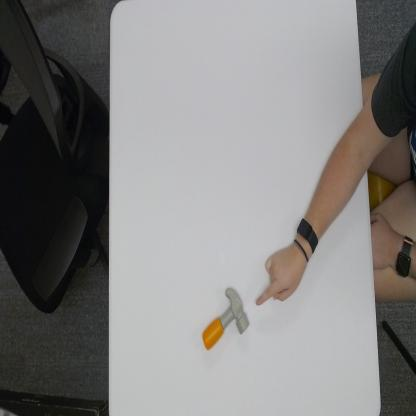Arm: (316, 105, 369, 238)
Hammer: (202, 286, 250, 351)
Hand: (256, 246, 308, 310)
